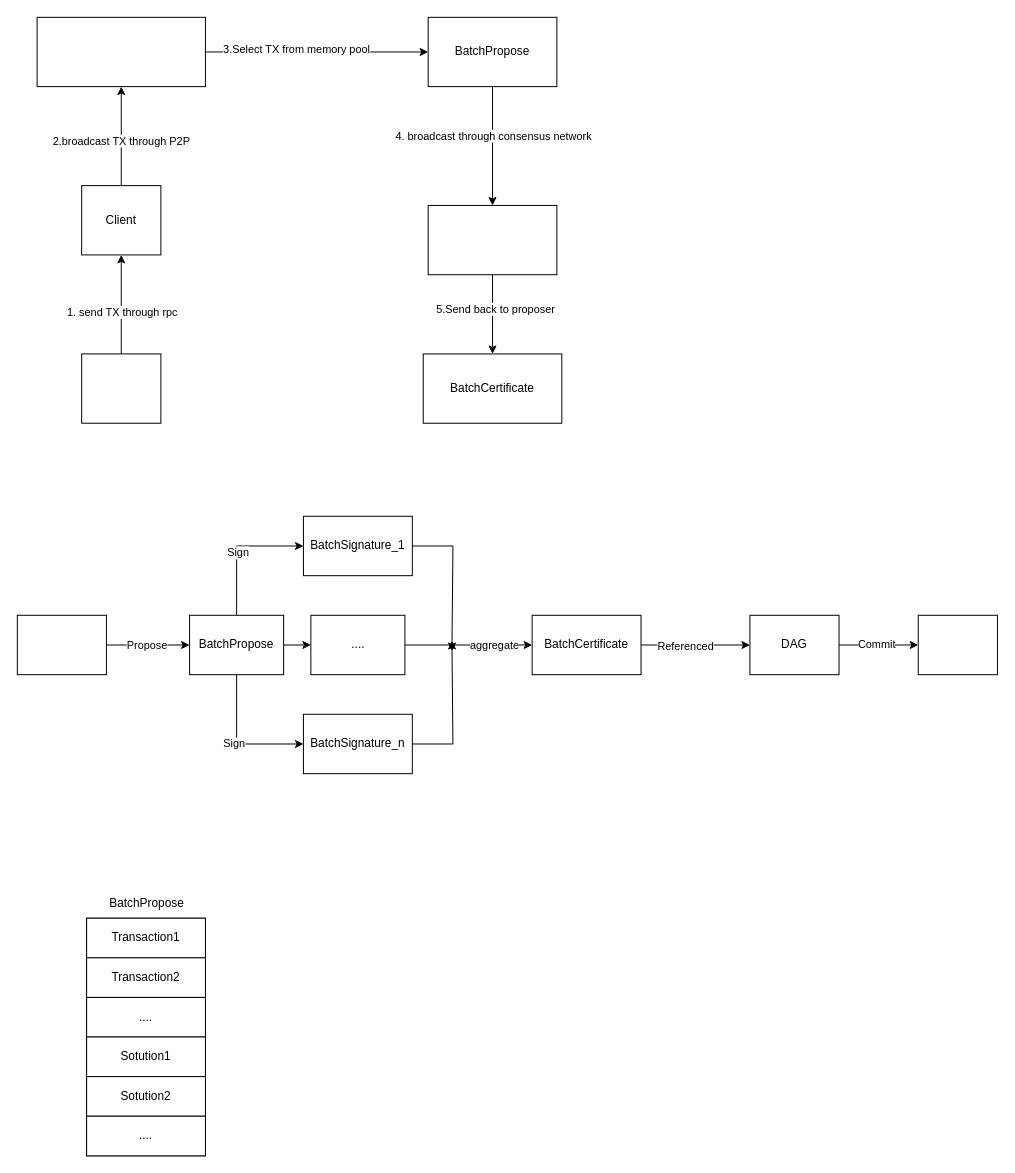
Image size: 1015x1173. Some labels were removed from this diagram. Each missing label, with the centre of its shape:
"Block" goes at (x=957, y=644).
"other validators" goes at (x=492, y=239).
"Transaction/ Solution" goes at (x=61, y=644).
"User" goes at (x=121, y=388).
"validator memory pool" goes at (x=120, y=51).
